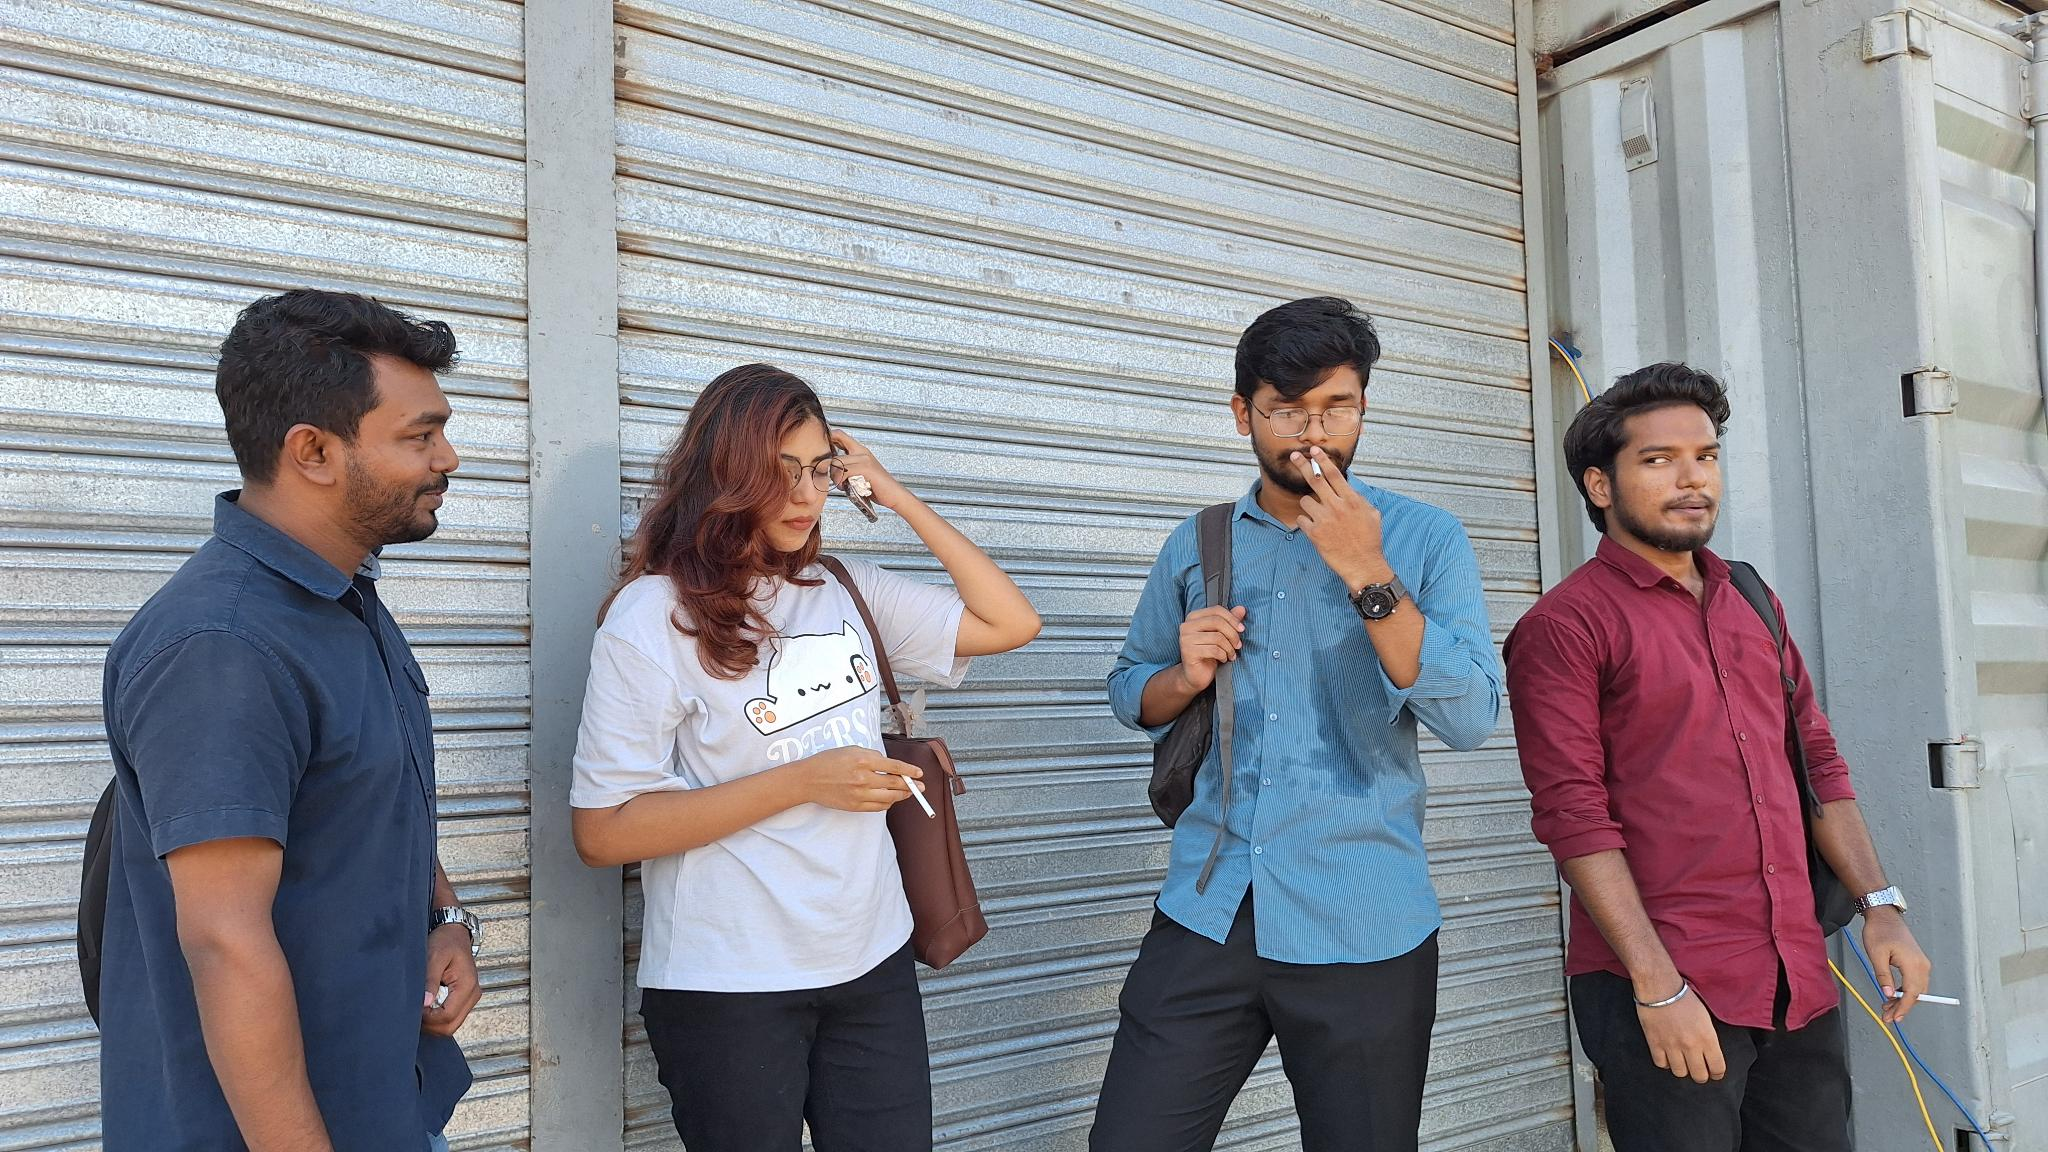cigarette: (897, 771, 938, 821), (1889, 987, 1964, 1009), (1308, 456, 1324, 482)
nonSmoker: (76, 288, 482, 1152)
smoker: (568, 367, 1044, 1152), (1087, 297, 1504, 1152), (1505, 364, 1931, 1152)
